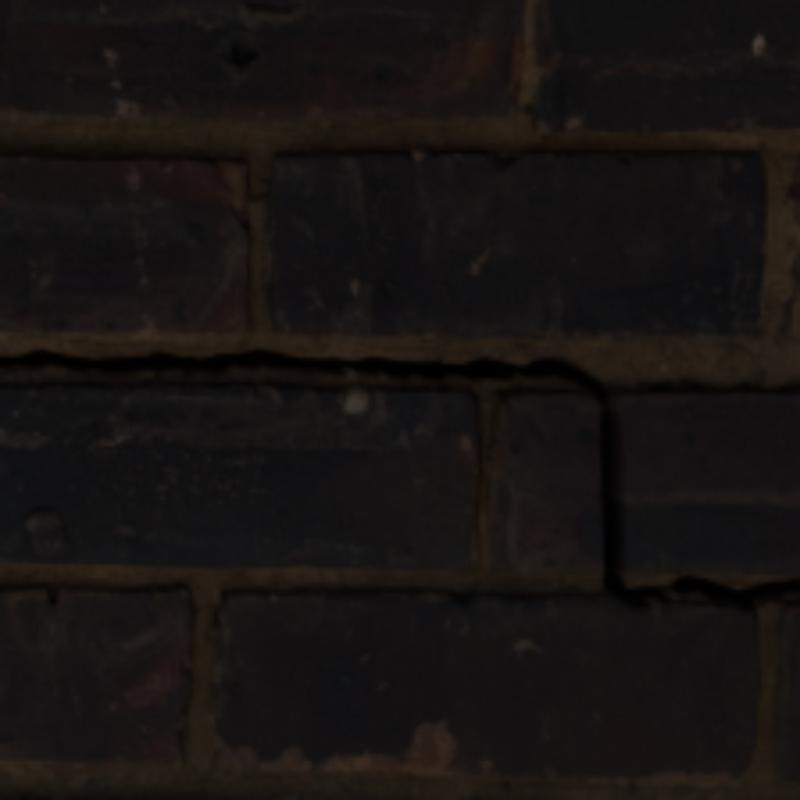pothole: (0, 350, 796, 611)
